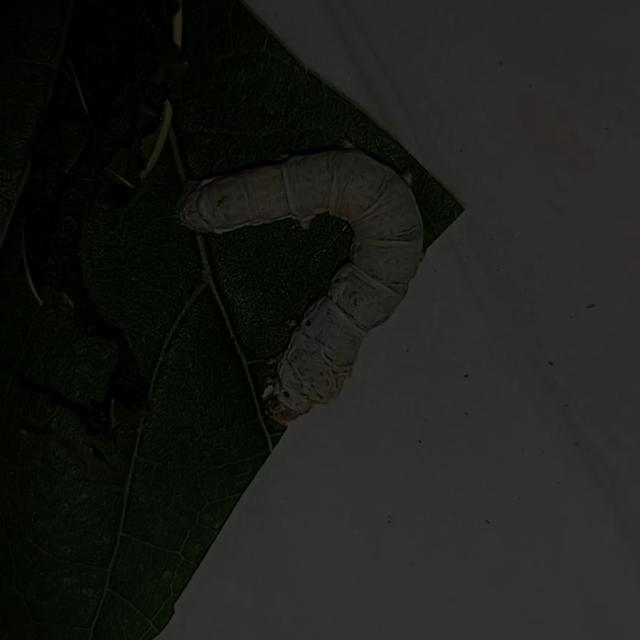Healthy: (158, 113, 434, 461)
